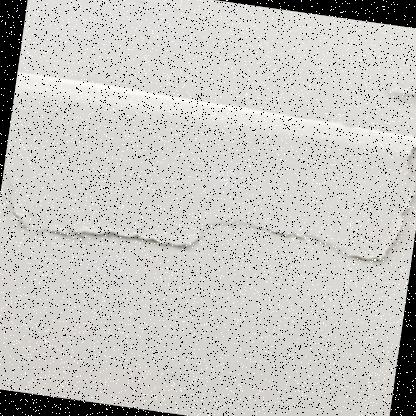Crack: (0, 67, 415, 294), (25, 0, 226, 43)
